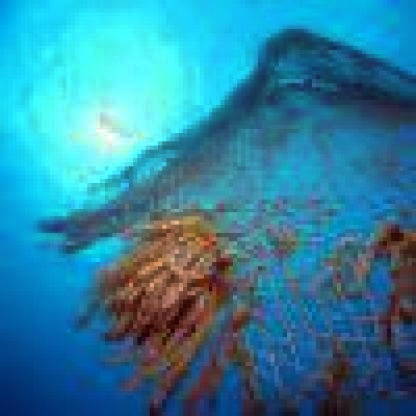net: (133, 58, 416, 416)
